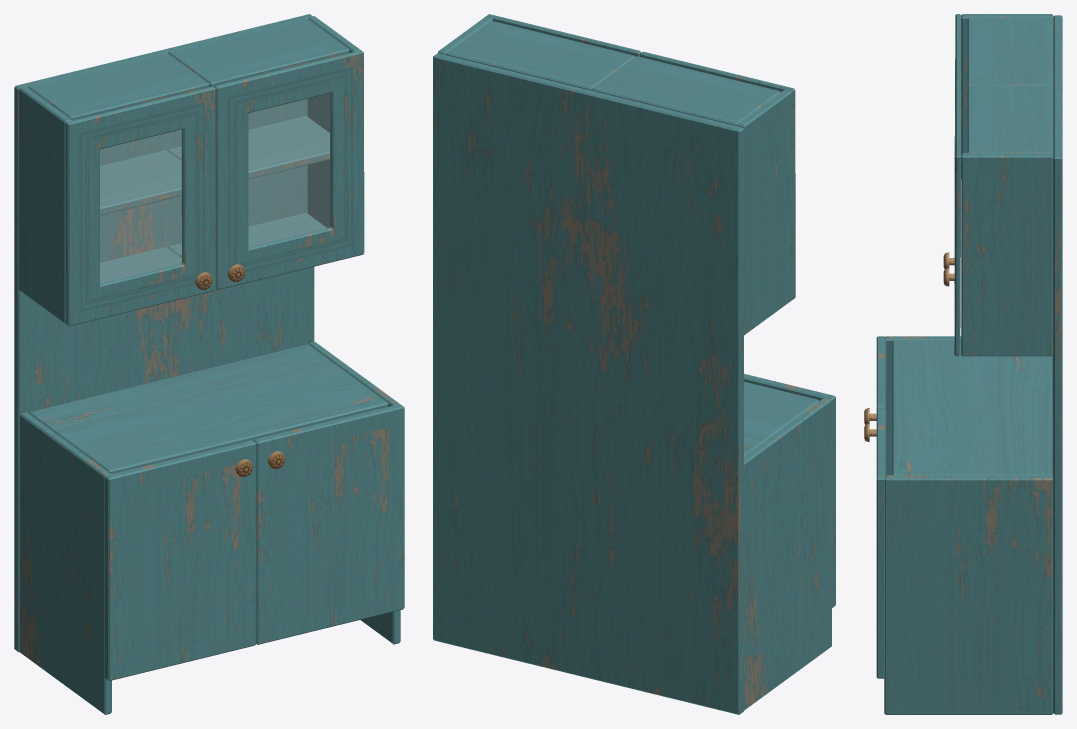
Rendered from cabinets_sleves.glb.
3 views of the same model, side by side, from view 1: azimuth 30°, elevation 25°; view 2: azimuth 150°, elevation 25°; view 3: azimuth 270°, elevation 25° (orthographic). The views are drawn at different scales.
Visible parts, largest first — view 1: Cabinet_FrontA.004, Cabinet_FrontGlass_A.005, Cabinet_Back_A.006, Cabinet_Shelf_A.004, Cabinet_Side_B.005, Cabinet_Shelf_B.003, Cabinet_Side_C.005, Cabinet_Shelf_B.005, Cabinet_Shelf_B.004, Cabinet_Side_C.006, Cabinet_Side_B.006; view 2: Cabinet_Back_A.006, Cabinet_Side_B.005, Cabinet_Shelf_B.003, Cabinet_Side_C.005, Cabinet_Shelf_A.004, Cabinet_FrontGlass_A.005, Cabinet_FrontA.004; view 3: Cabinet_Side_B.006, Cabinet_Shelf_A.004, Cabinet_Side_C.006, Cabinet_Shelf_B.003, Cabinet_Back_A.006, Cabinet_FrontA.004, Cabinet_FrontGlass_A.005, Cabinet_Side_B.005, Cabinet_Side_C.005.
Part boxes in pixels (<box>): Cabinet_FrontA.004: <box>104,404,404,680</box>; Cabinet_FrontGlass_A.005: <box>66,50,364,326</box>; Cabinet_Back_A.006: <box>14,14,314,652</box>; Cabinet_Shelf_A.004: <box>29,344,388,474</box>; Cabinet_Side_B.005: <box>20,412,111,714</box>; Cabinet_Shelf_B.003: <box>27,18,349,120</box>; Cabinet_Side_C.005: <box>19,86,71,323</box>; Cabinet_Shelf_B.005: <box>100,116,329,215</box>; Cabinet_Shelf_B.004: <box>100,213,326,283</box>; Cabinet_Side_C.006: <box>307,16,360,227</box>; Cabinet_Side_B.006: <box>308,342,400,644</box>; Cabinet_Back_A.006: <box>433,53,743,714</box>; Cabinet_Side_B.005: <box>744,397,831,710</box>; Cabinet_Shelf_B.003: <box>446,20,780,125</box>; Cabinet_Side_C.005: <box>737,89,792,335</box>; Cabinet_Shelf_A.004: <box>744,381,819,456</box>; Cabinet_FrontGlass_A.005: <box>486,14,795,299</box>; Cabinet_FrontA.004: <box>744,374,835,607</box>; Cabinet_Side_B.006: <box>884,475,1053,714</box>; Cabinet_Shelf_A.004: <box>892,340,1051,475</box>; Cabinet_Side_C.006: <box>961,153,1053,356</box>; Cabinet_Shelf_B.003: <box>967,18,1053,153</box>; Cabinet_Back_A.006: <box>1053,15,1062,714</box>; Cabinet_FrontA.004: <box>876,336,885,678</box>; Cabinet_FrontGlass_A.005: <box>954,14,961,356</box>; Cabinet_Side_B.005: <box>885,336,1053,476</box>; Cabinet_Side_C.005: <box>961,14,1053,153</box>.
Size of the model in its own units: 1.1 by 2 by 0.645.
2 materials, 1 textured.
